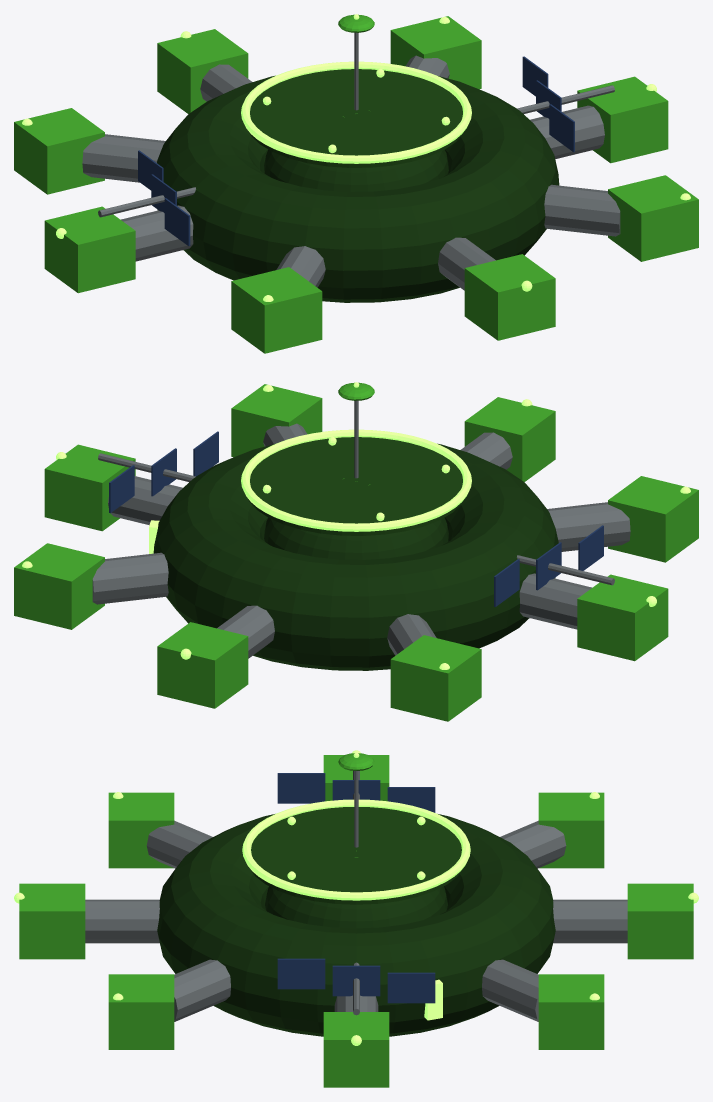
Rendered from space_station.fbx.
The picture shows the model from 3 angles, top to bottom: view 1: azimuth 30°, elevation 25°; view 2: azimuth 150°, elevation 25°; view 3: azimuth 270°, elevation 25°; orthographic projection.
Parts seen in each view (by area): view 1: Hub_Ring, LandingPad, Dock_MedBay, Dock_AlienRoom, Dock_Observatory, Dock_EngineRoom, Dock_Lab, Dock_Storage, Hub_Dome_Top, Dock_Bedroom, LandingPad_Ring, Dock_Garden (+17 smaller); view 2: Hub_Ring, LandingPad, Dock_Lab, Dock_Bedroom, Dock_Observatory, Dock_Garden, Dock_MedBay, Dock_Storage, Hub_Dome_Top, Dock_AlienRoom, LandingPad_Ring, Dock_EngineRoom (+17 smaller); view 3: Hub_Ring, LandingPad, Dock_AlienRoom, Dock_Bedroom, Dock_EngineRoom, Dock_Garden, Dock_Storage, Hub_Dome_Top, LandingPad_Ring, Dock_Lab, Dock_MedBay, Arm_AlienRoom (+13 smaller).
Part boxes in pixels (x1,y1,x2,y2): Hub_Ring: [157, 75, 559, 302]; LandingPad: [248, 69, 464, 167]; Dock_MedBay: [231, 267, 322, 353]; Dock_AlienRoom: [464, 254, 555, 340]; Dock_Observatory: [44, 206, 135, 293]; Dock_EngineRoom: [608, 175, 698, 261]; Dock_Lab: [14, 108, 104, 194]; Dock_Storage: [577, 76, 668, 163]; Hub_Dome_Top: [264, 149, 448, 191]; Dock_Bedroom: [157, 29, 248, 113]; LandingPad_Ring: [241, 61, 471, 163]; Dock_Garden: [390, 16, 481, 89]; Hub_Ring: [153, 443, 558, 670]; LandingPad: [248, 437, 464, 535]; Dock_Lab: [390, 635, 481, 721]; Dock_Bedroom: [157, 622, 248, 708]; Dock_Observatory: [577, 574, 668, 661]; Dock_Garden: [14, 543, 104, 629]; Dock_MedBay: [608, 476, 698, 562]; Dock_Storage: [44, 444, 135, 531]; Hub_Dome_Top: [264, 517, 448, 559]; Dock_AlienRoom: [464, 397, 555, 481]; LandingPad_Ring: [241, 429, 471, 531]; Dock_EngineRoom: [231, 384, 322, 457]; Hub_Ring: [157, 814, 555, 1036]; LandingPad: [248, 807, 464, 904]; Dock_AlienRoom: [19, 883, 85, 959]; Dock_Bedroom: [627, 883, 693, 959]; Dock_EngineRoom: [108, 974, 174, 1049]; Dock_Garden: [538, 974, 604, 1049]; Dock_Storage: [323, 1012, 389, 1087]; Hub_Dome_Top: [265, 886, 447, 928]; LandingPad_Ring: [242, 799, 470, 900]; Dock_Lab: [538, 792, 604, 868]; Dock_MedBay: [108, 792, 174, 868]; Arm_AlienRoom: [85, 899, 159, 943].
Bounding box in the file's own units: 18.7 × 7.18 × 18.7.
